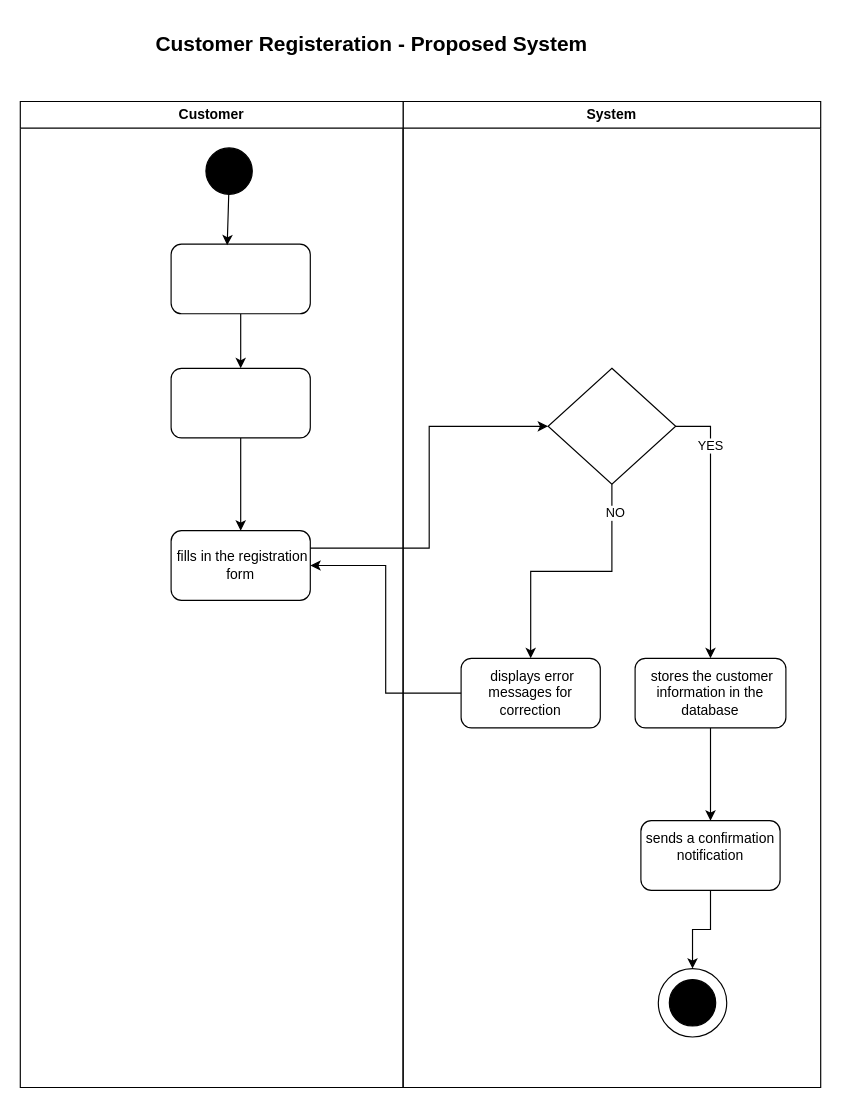
The diagram is 841 pixels wide and 1108 high, and some of its shapes have lost their labels. Here are the shapes that lost their labels. From the top down, the centre of each, then its label:
At (x=240, y=278): "accesses the website".
At (x=240, y=402): "go to the Registation page".
At (x=611, y=425): "Validates the entered data".
